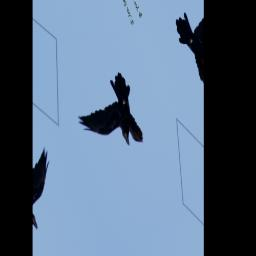Crow: (74, 69, 150, 181)
